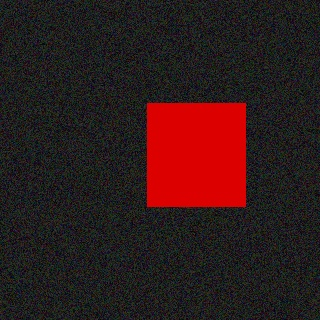red_barrel: (147, 104, 246, 207)
